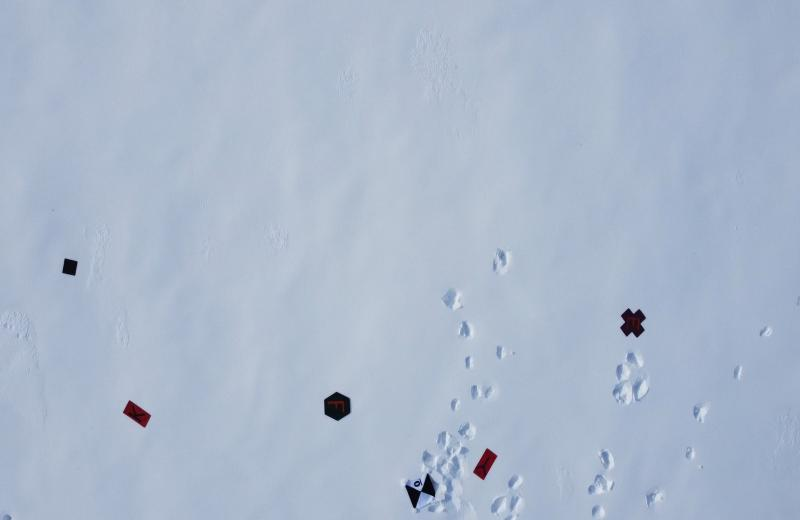Cross: (618, 304, 652, 344)
Hexagon: (323, 390, 357, 426)
Rectangle: (119, 398, 153, 432), (473, 445, 498, 484)
Square: (58, 251, 81, 284)
